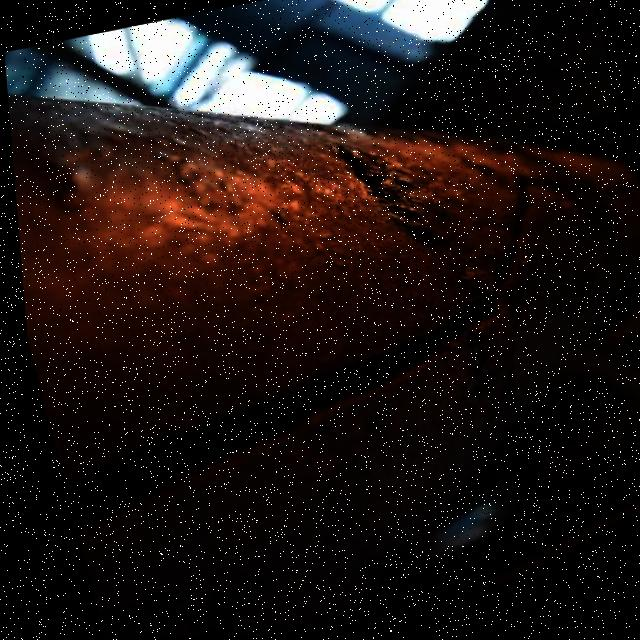crack: (60, 284, 505, 548), (482, 168, 624, 283)
